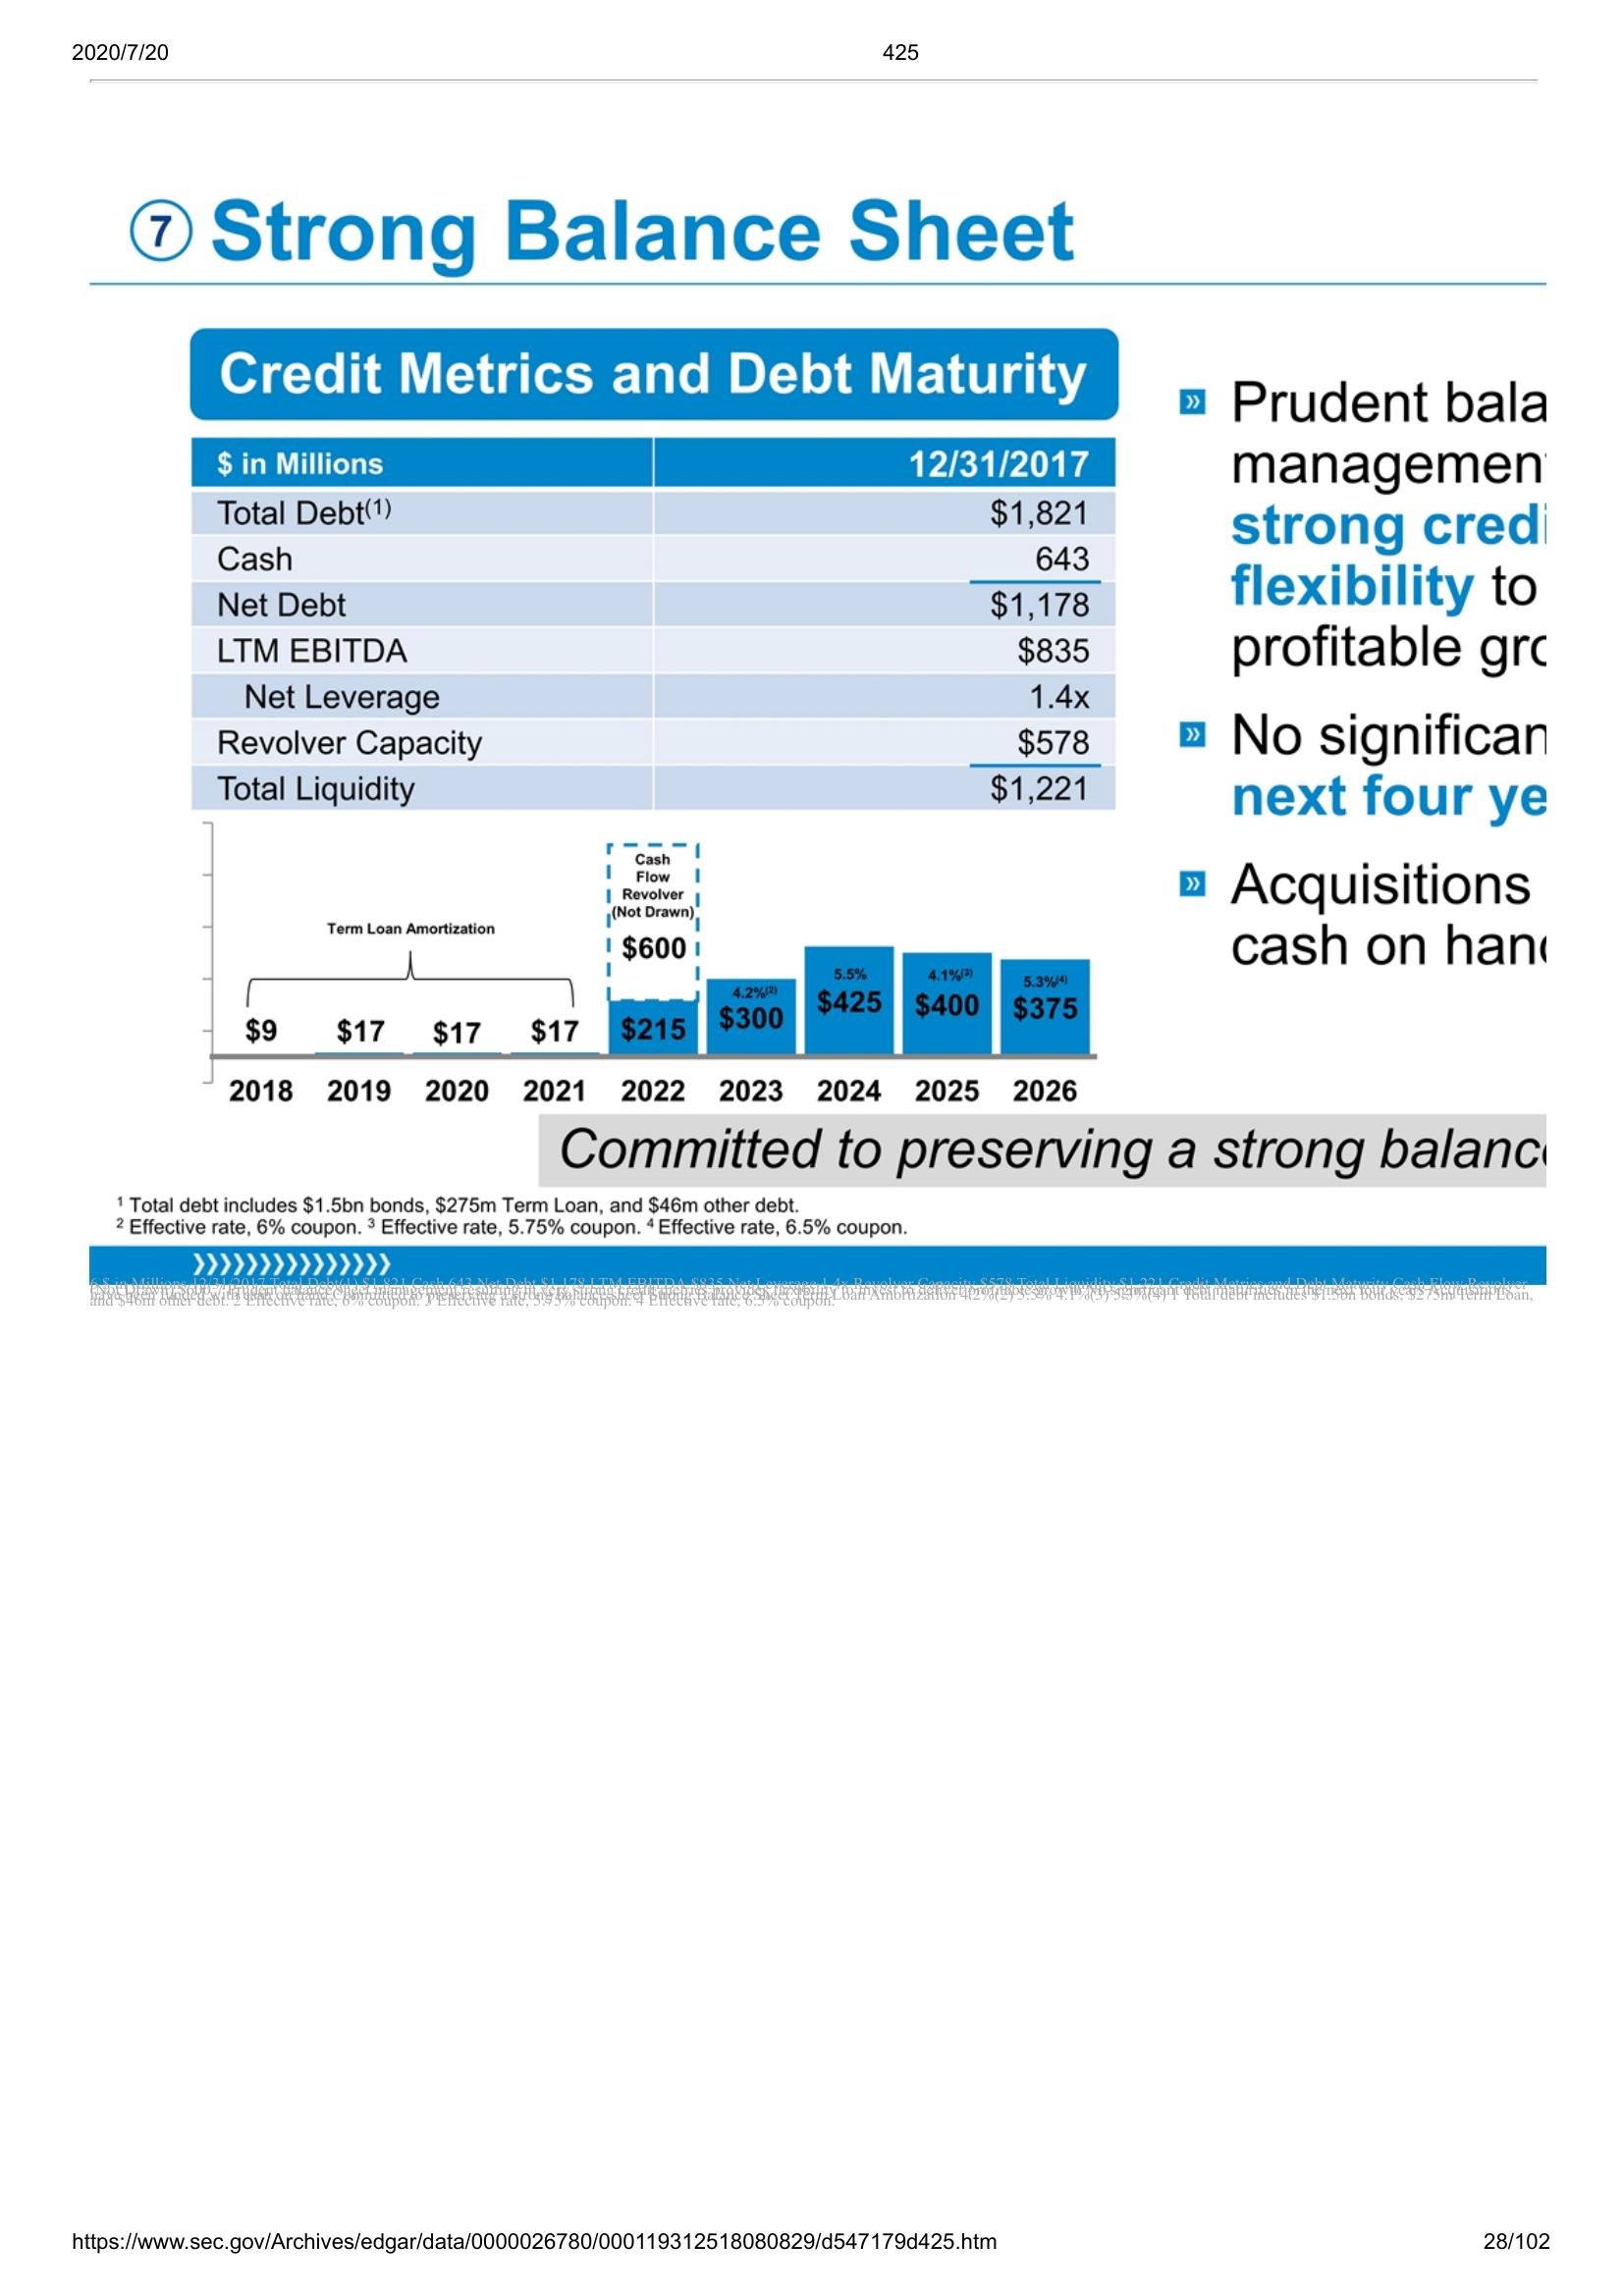table: (190, 430, 1121, 811)
